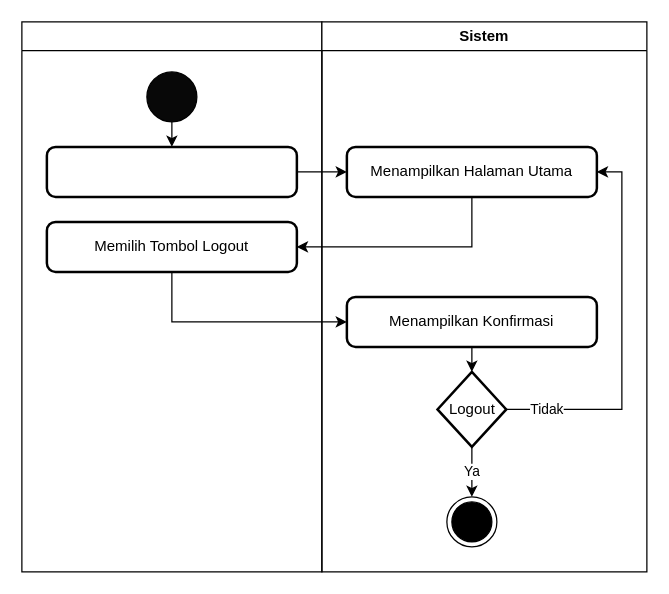
Some shapes in this 669 by 594 pixel diagram are drawn without their labels. Here are the shapes that lost their labels. From the top down, the box of each, then its label:
(45, 145, 298, 198): Membuka Aplikasi Sistem Pakar
(21, 21, 322, 572): User
